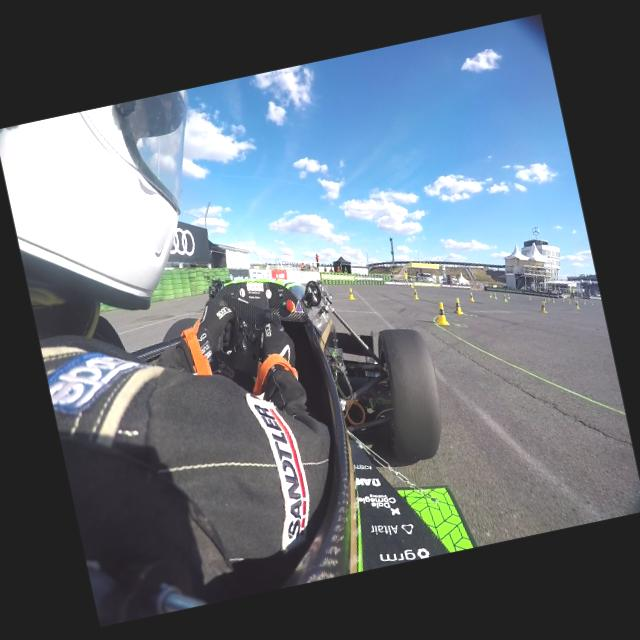yellow_cone: (433, 300, 449, 326), (451, 296, 463, 314), (538, 300, 548, 314), (346, 287, 354, 300), (412, 288, 418, 300), (468, 292, 473, 302), (503, 294, 507, 302), (493, 292, 497, 298), (574, 303, 578, 309), (488, 292, 492, 298), (542, 298, 546, 304), (507, 294, 511, 300), (547, 296, 550, 302), (528, 296, 532, 300), (552, 298, 555, 303), (412, 282, 414, 288), (568, 300, 570, 304), (562, 298, 564, 302), (584, 300, 586, 304)
